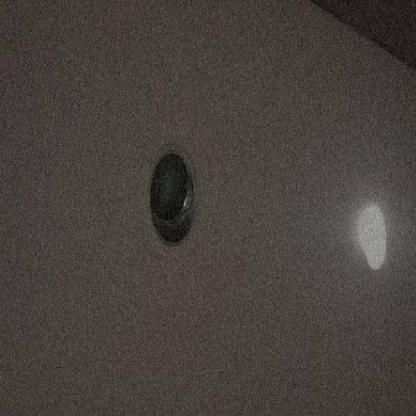light_off: (138, 109, 208, 279)
